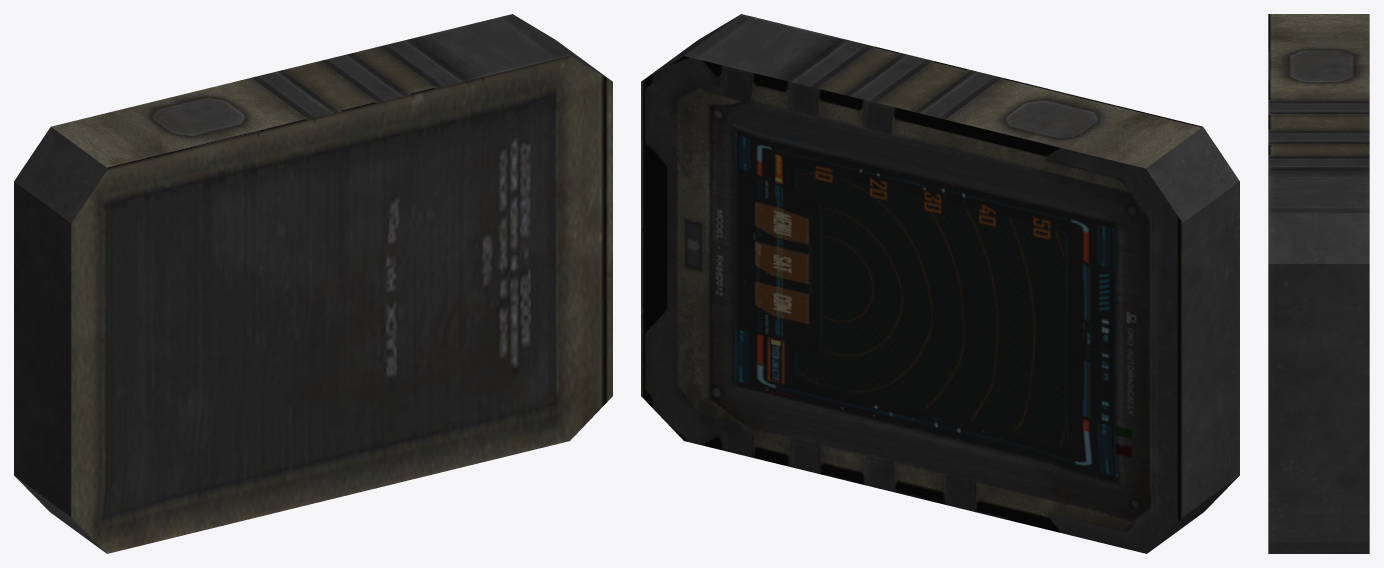
The model's file is t6_wpn_pda_world_LOD2.obj.
3 renders of one model, left to right at view 1: azimuth 30°, elevation 25°; view 2: azimuth 150°, elevation 25°; view 3: azimuth 270°, elevation 25°, orthographic. The views are drawn at different scales.
Parts seen in each view (by area): view 1: mtl_t6_wpn_pda; view 2: mtl_t6_wpn_pda; view 3: mtl_t6_wpn_pda.
Part boxes in pixels (left/top/right/bottom): mtl_t6_wpn_pda: left=14, top=14, right=612, bottom=553; mtl_t6_wpn_pda: left=641, top=14, right=1239, bottom=553; mtl_t6_wpn_pda: left=1268, top=14, right=1369, bottom=553.
Size of the model in its own units: 14.08 by 9.56 by 2.58.
